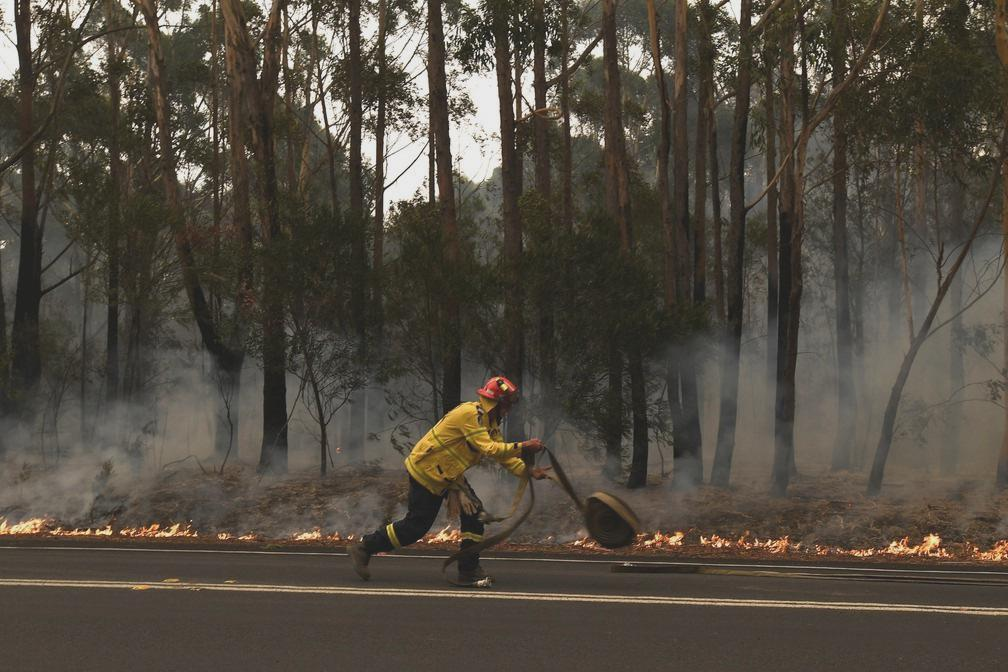Fire: (3, 515, 199, 539), (847, 532, 954, 558), (696, 531, 795, 551), (292, 526, 357, 544), (642, 528, 684, 550), (976, 538, 1006, 564), (416, 530, 461, 545), (217, 531, 257, 542)
